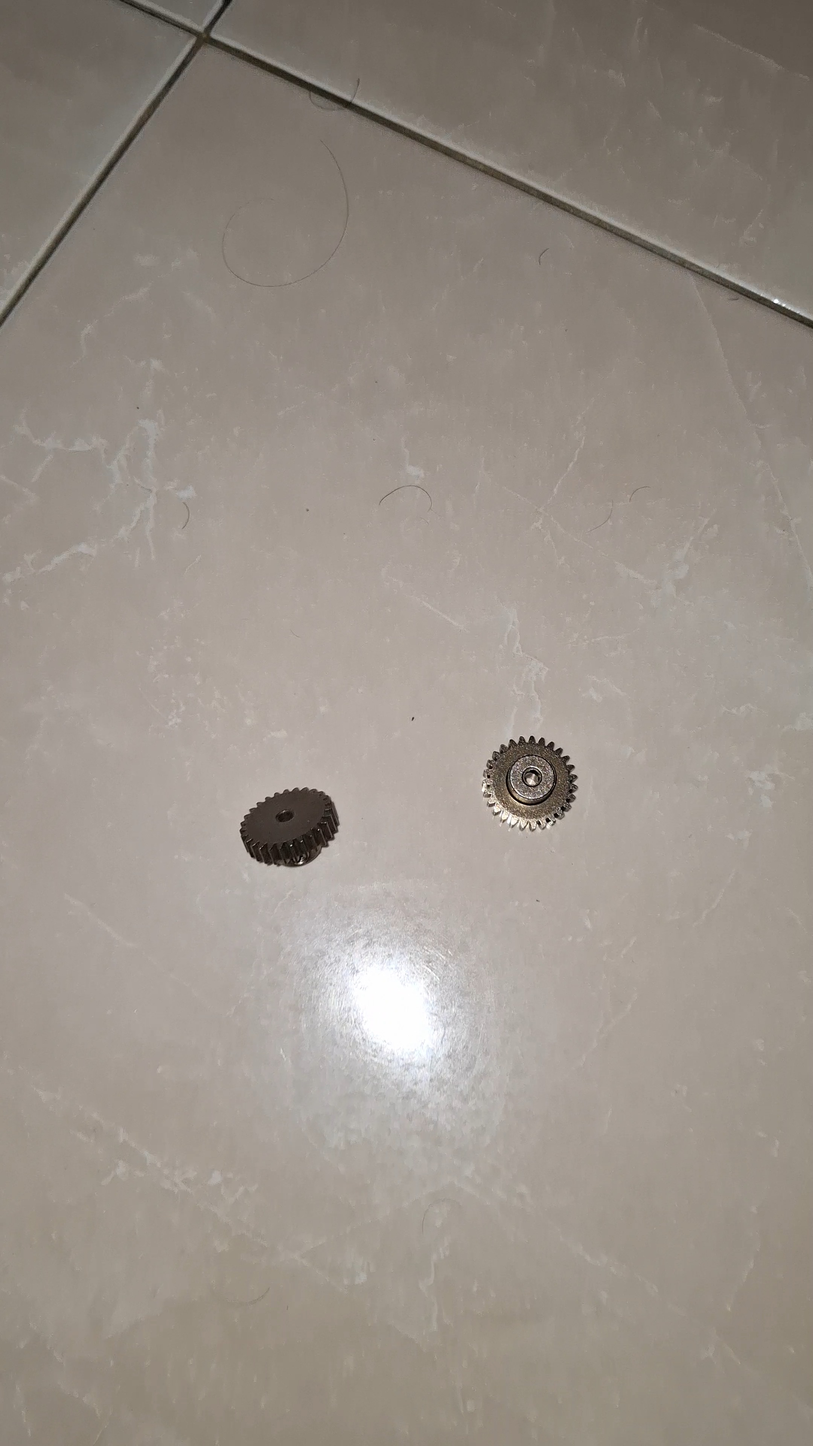spur gear: (480, 729, 572, 819), (242, 779, 338, 856)
